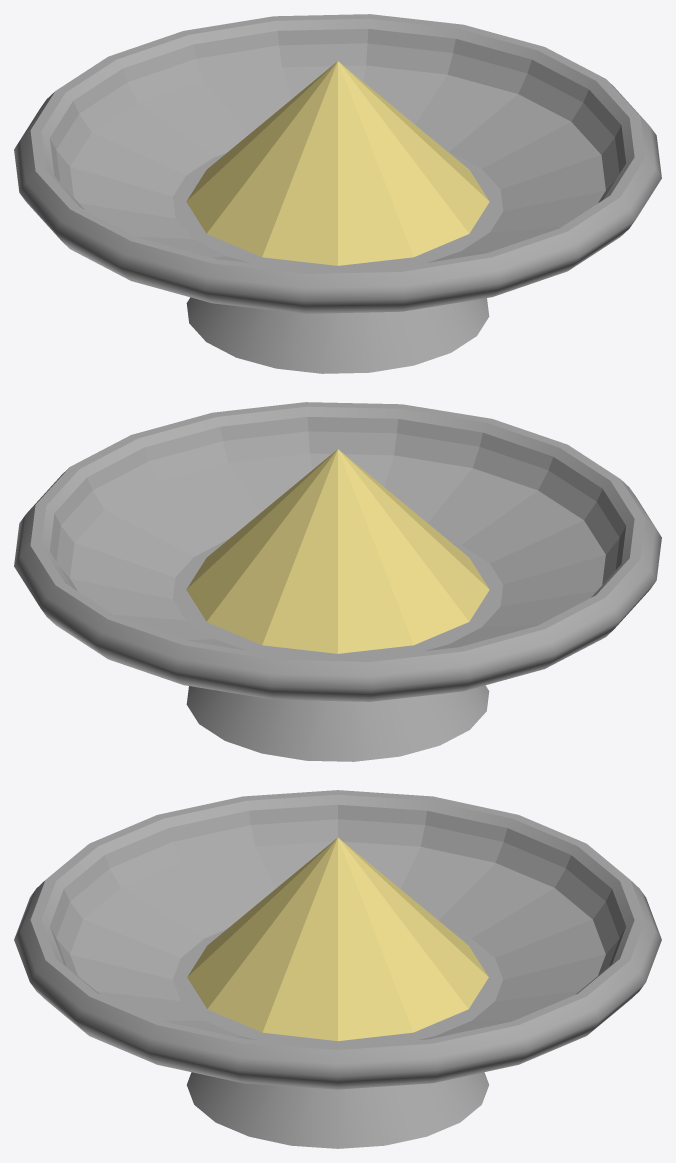
File: Polvos Magicos (Llenos).fbx
The picture shows the model from 3 angles, top to bottom: view 1: azimuth 30°, elevation 25°; view 2: azimuth 150°, elevation 25°; view 3: azimuth 270°, elevation 25°; orthographic projection.
Visible parts, largest first — view 1: Polvo_Lleno, Polvo; view 2: Polvo_Lleno, Polvo; view 3: Polvo_Lleno, Polvo.
Boxes of the visible parts, x1,y1,x2,y2 form: Polvo_Lleno: (14, 14, 661, 373); Polvo: (186, 61, 489, 265); Polvo_Lleno: (14, 402, 661, 761); Polvo: (186, 449, 489, 653); Polvo_Lleno: (14, 790, 661, 1148); Polvo: (187, 837, 488, 1040).
Bounding box in the file's own units: 28.51 × 12.02 × 28.51.
